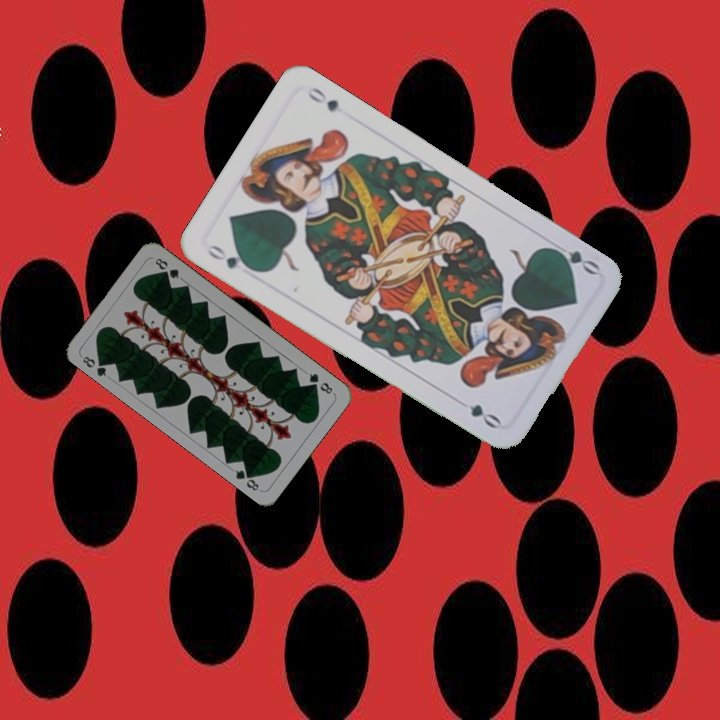G8: (78, 352, 110, 379), (305, 369, 335, 397)
GO: (545, 237, 602, 278), (203, 240, 258, 274)
